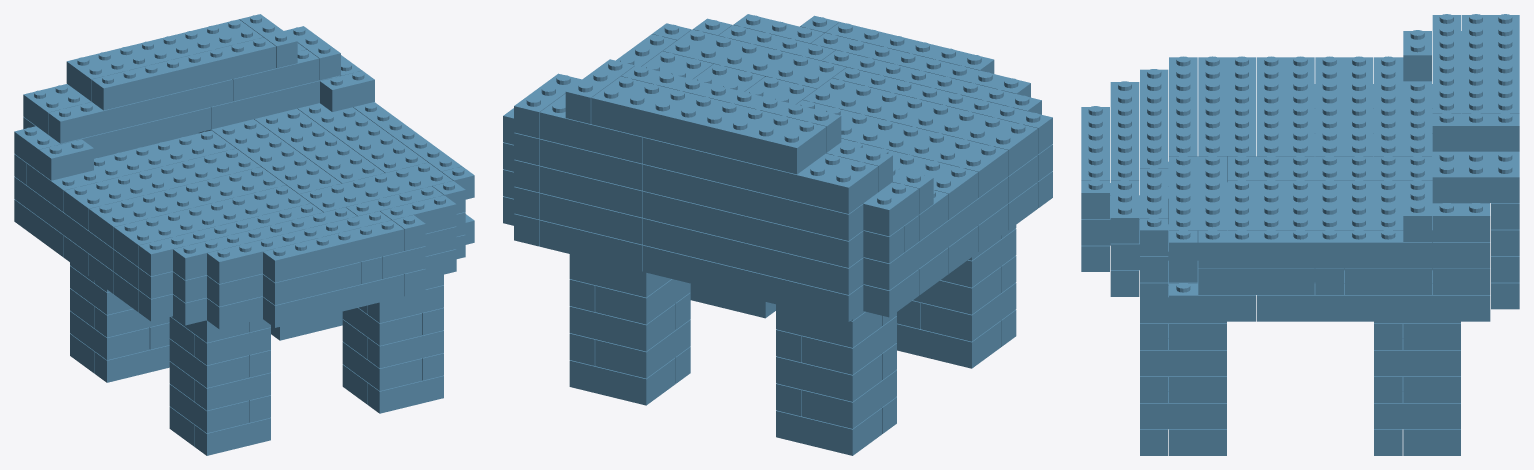
The model's file is 017_bed_L2.glb.
3 renders of one model, left to right at view 1: azimuth 30°, elevation 25°; view 2: azimuth 150°, elevation 25°; view 3: azimuth 270°, elevation 25°, orthographic. The views are drawn at different scales.
Size of the model in its own units: 14.98 by 12.13 by 14.98.
